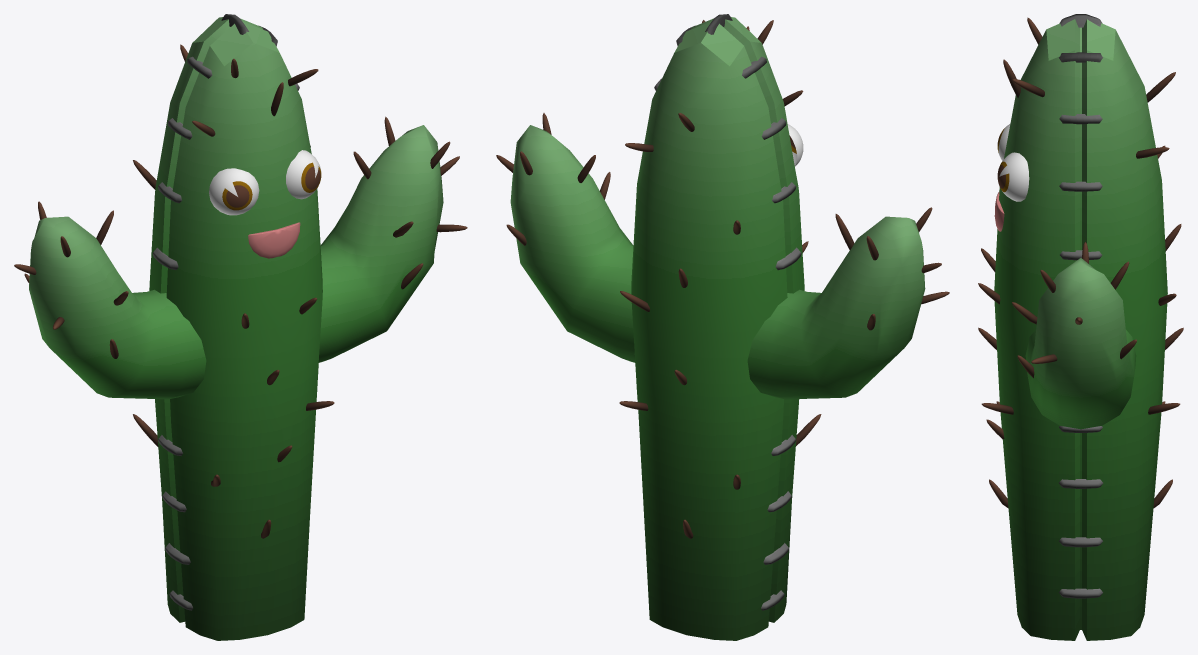
File: SM_cactusToy.fbx
3 renders of one model, left to right at view 1: azimuth 30°, elevation 25°; view 2: azimuth 150°, elevation 25°; view 3: azimuth 270°, elevation 25°, orthographic.
Visible parts, largest first — view 1: cactusToy_SM; view 2: cactusToy_SM; view 3: cactusToy_SM.
Part boxes in pixels (x1,y1,x2,y2): cactusToy_SM: [14, 14, 467, 640]; cactusToy_SM: [496, 14, 949, 640]; cactusToy_SM: [978, 14, 1183, 640].
Size of the model in its own units: 26.38 by 33.66 by 10.48.
Materials: 1 (1 with a texture image).
